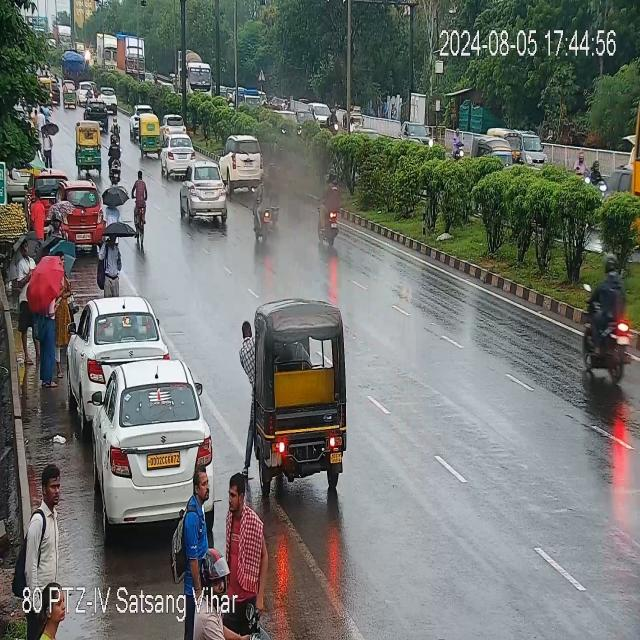2-wheelers: (582, 254, 636, 375), (316, 170, 342, 252), (574, 150, 589, 178), (452, 131, 465, 159)
auto: (241, 296, 350, 496), (74, 121, 104, 174), (137, 111, 164, 158)
car: (84, 353, 214, 527), (67, 295, 172, 428), (46, 182, 106, 252), (180, 162, 228, 228), (498, 120, 550, 173), (220, 134, 265, 188), (161, 137, 197, 182), (307, 100, 330, 131), (86, 102, 108, 130), (162, 115, 186, 135), (79, 81, 100, 103), (98, 88, 116, 111)
pedestrian: (16, 464, 66, 638), (172, 468, 220, 630), (221, 470, 267, 637), (24, 244, 70, 388), (99, 228, 128, 296), (132, 174, 148, 229)
truck: (175, 49, 214, 91), (117, 34, 147, 88), (98, 32, 120, 75)
